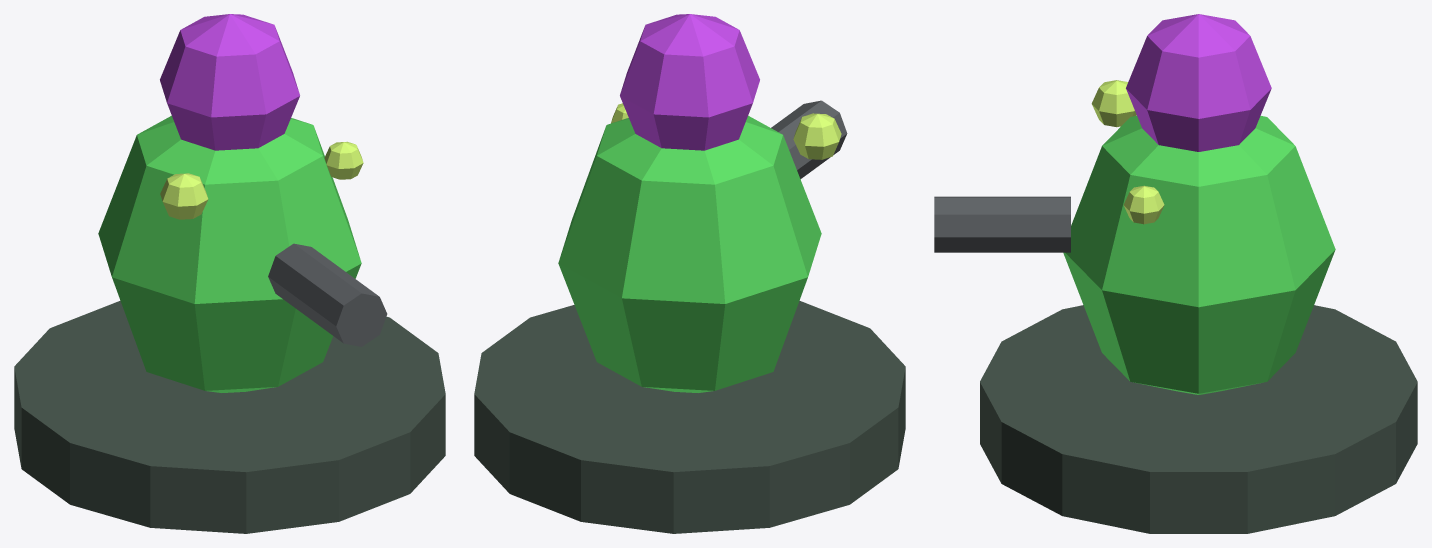
The model's file is TD_PoisonTower_T0.fbx.
The picture shows the model from 3 angles, left to right: view 1: azimuth 30°, elevation 25°; view 2: azimuth 150°, elevation 25°; view 3: azimuth 270°, elevation 25°; orthographic projection.
Parts seen in each view (by area): view 1: TD_PoisonTower_T0_Base, TD_PoisonTower_T0_BodyTank, TD_PoisonTower_T0_PoisonCore, TD_PoisonTower_T0_Barrel, TD_PoisonTower_T0_Bubble_01, TD_PoisonTower_T0_Bubble_02; view 2: TD_PoisonTower_T0_Base, TD_PoisonTower_T0_BodyTank, TD_PoisonTower_T0_PoisonCore, TD_PoisonTower_T0_Barrel, TD_PoisonTower_T0_Bubble_01; view 3: TD_PoisonTower_T0_Base, TD_PoisonTower_T0_BodyTank, TD_PoisonTower_T0_PoisonCore, TD_PoisonTower_T0_Barrel, TD_PoisonTower_T0_Bubble_01, TD_PoisonTower_T0_Bubble_02.
Part boxes in pixels (<box>): TD_PoisonTower_T0_Base: <box>14,300,445,533</box>; TD_PoisonTower_T0_BodyTank: <box>98,115,361,392</box>; TD_PoisonTower_T0_PoisonCore: <box>160,14,299,150</box>; TD_PoisonTower_T0_Barrel: <box>268,243,387,346</box>; TD_PoisonTower_T0_Bubble_01: <box>160,173,208,219</box>; TD_PoisonTower_T0_Bubble_02: <box>324,141,363,179</box>; TD_PoisonTower_T0_Base: <box>474,300,905,533</box>; TD_PoisonTower_T0_BodyTank: <box>558,115,821,392</box>; TD_PoisonTower_T0_PoisonCore: <box>620,14,759,150</box>; TD_PoisonTower_T0_Barrel: <box>771,100,847,179</box>; TD_PoisonTower_T0_Bubble_01: <box>793,113,841,159</box>; TD_PoisonTower_T0_Base: <box>980,305,1417,533</box>; TD_PoisonTower_T0_BodyTank: <box>1063,115,1335,394</box>; TD_PoisonTower_T0_PoisonCore: <box>1126,14,1271,151</box>; TD_PoisonTower_T0_Barrel: <box>934,196,1070,252</box>; TD_PoisonTower_T0_Bubble_01: <box>1091,80,1136,127</box>; TD_PoisonTower_T0_Bubble_02: <box>1123,185,1164,224</box>.
Size of the model in its own units: 0.9359 by 1.04 by 1.06.
